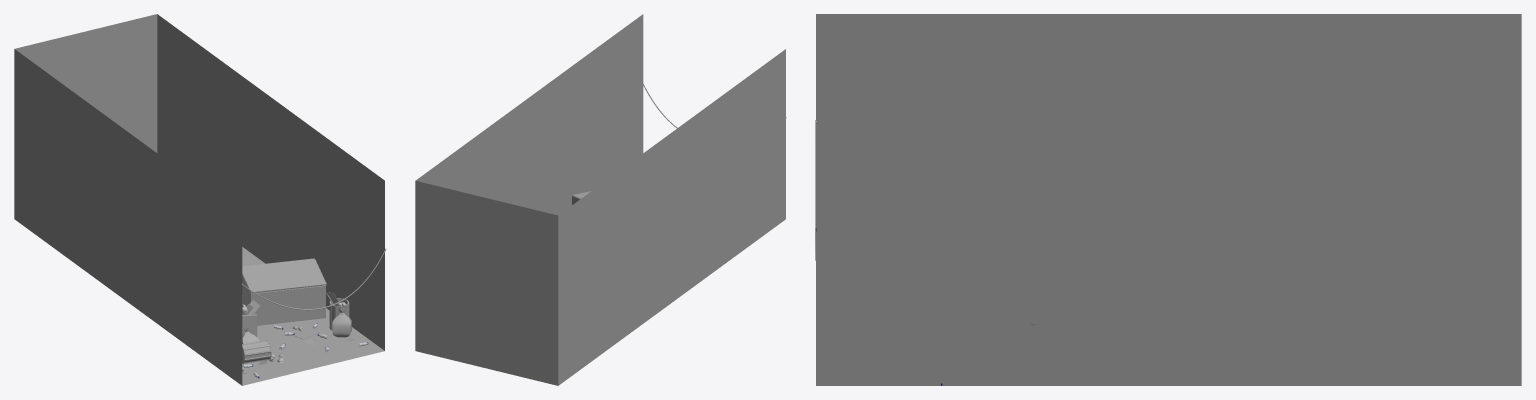
The model's file is SM_RatMiniGame.fbx.
3 renders of one model, left to right at view 1: azimuth 30°, elevation 25°; view 2: azimuth 150°, elevation 25°; view 3: azimuth 270°, elevation 25°, orthographic. The views are drawn at different scales.
Parts seen in each view (by area): view 1: SM_RatMiniGame; view 2: SM_RatMiniGame; view 3: SM_RatMiniGame.
Boxes of the visible parts, x1=… form: SM_RatMiniGame: x1=14, y1=14, x2=386, y2=385; SM_RatMiniGame: x1=415, y1=14, x2=786, y2=385; SM_RatMiniGame: x1=815, y1=14, x2=1521, y2=385.
Bounding box in the file's own units: 519 × 590 × 1416.
